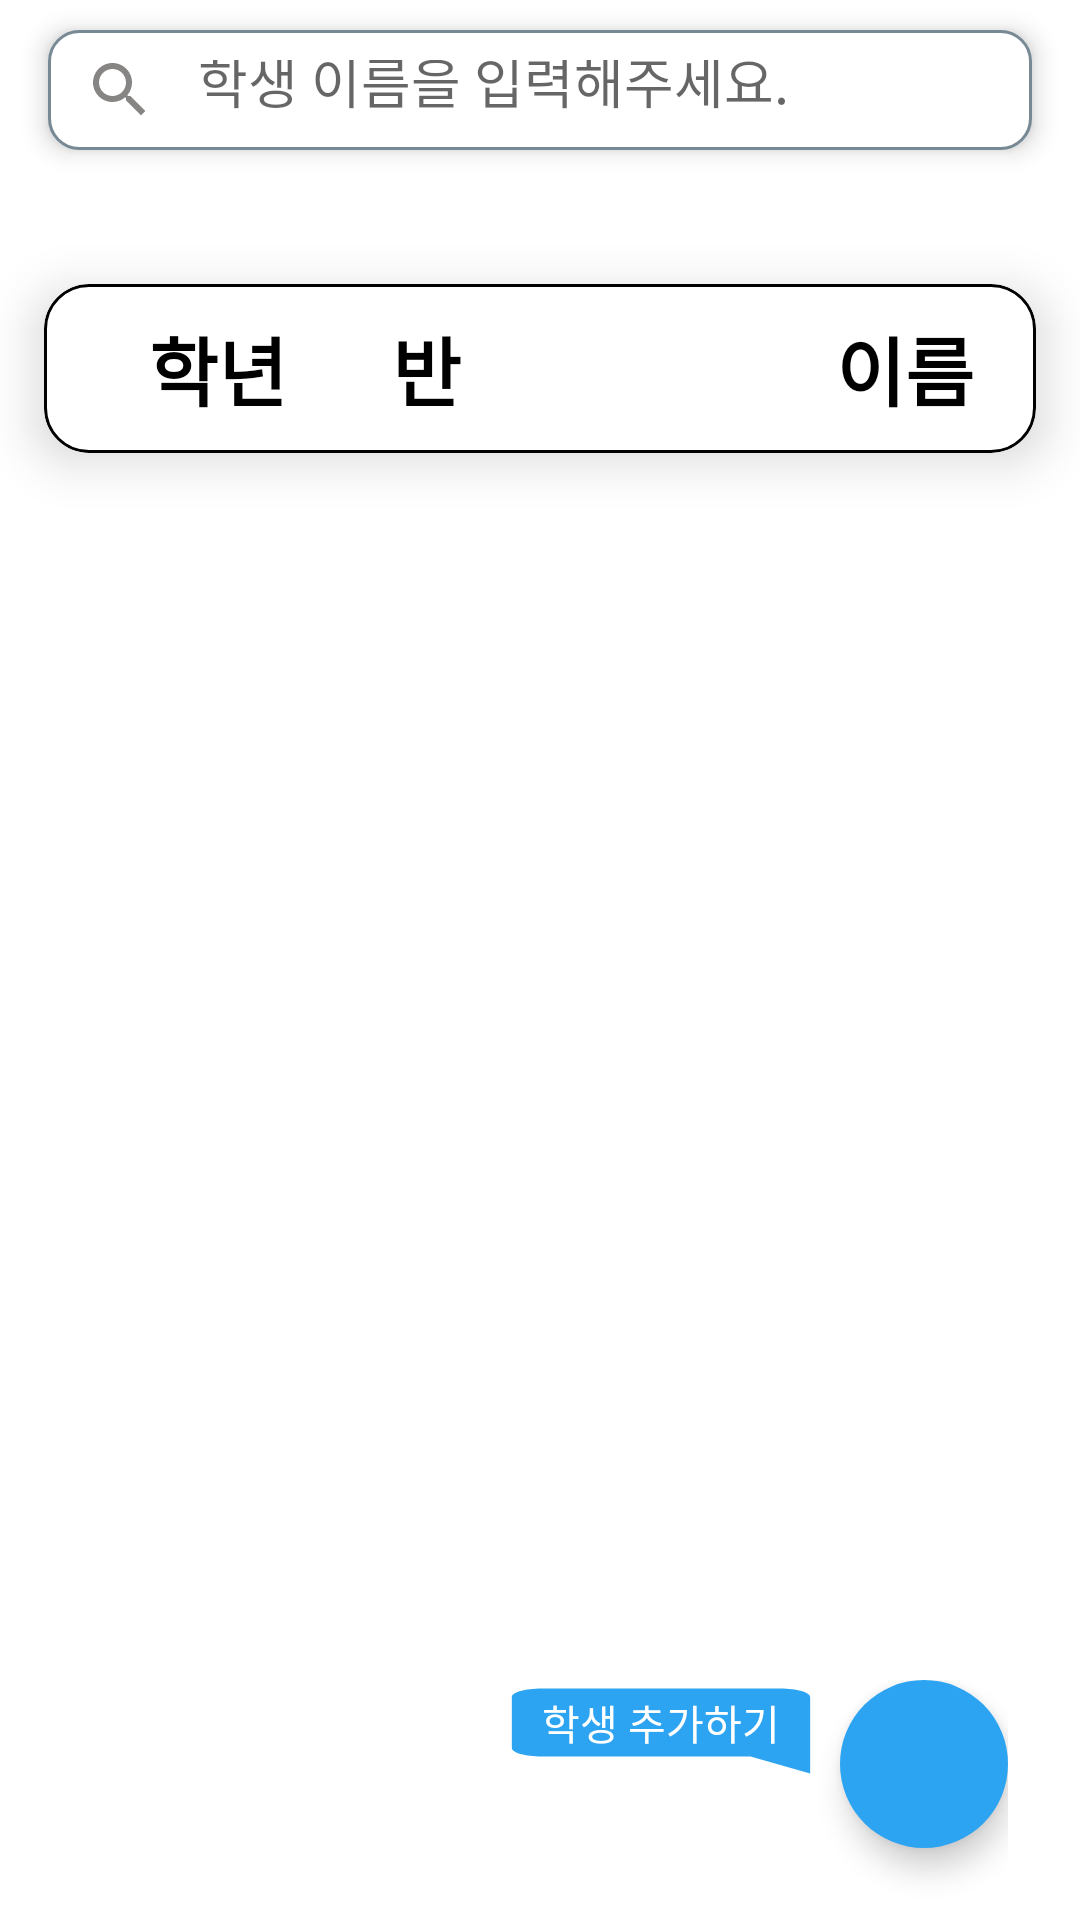

Icons on this 1080px×1920px Android screen, each with its box as (x1,y1,x2,y2):
search: (93,63,145,115)
